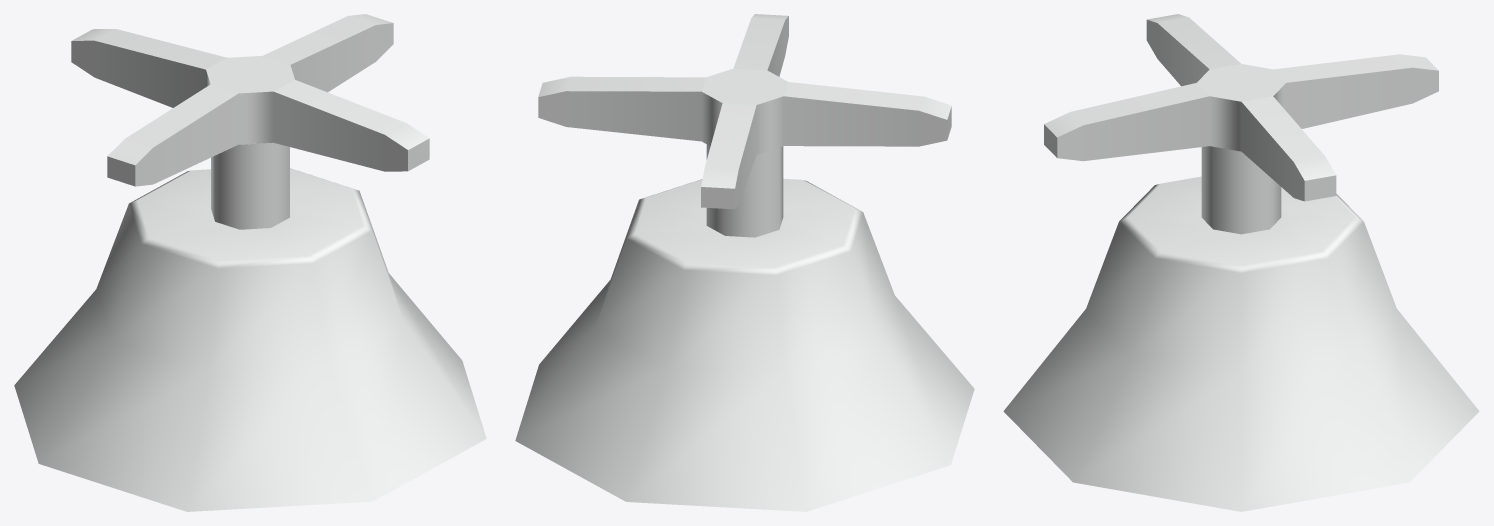
The model's file is Tap.fbx.
The picture shows the model from 3 angles, left to right: view 1: azimuth 30°, elevation 25°; view 2: azimuth 150°, elevation 25°; view 3: azimuth 270°, elevation 25°; orthographic projection. The views are drawn at different scales.
Parts seen in each view (by area): view 1: ceramic_sink.001; view 2: ceramic_sink.001; view 3: ceramic_sink.001.
Boxes of the visible parts, x1,y1,x2,y2 form: ceramic_sink.001: (14, 14, 486, 511); ceramic_sink.001: (515, 14, 974, 511); ceramic_sink.001: (1003, 14, 1479, 511).
Size of the model in its own units: 6.92 by 5.26 by 6.92.
